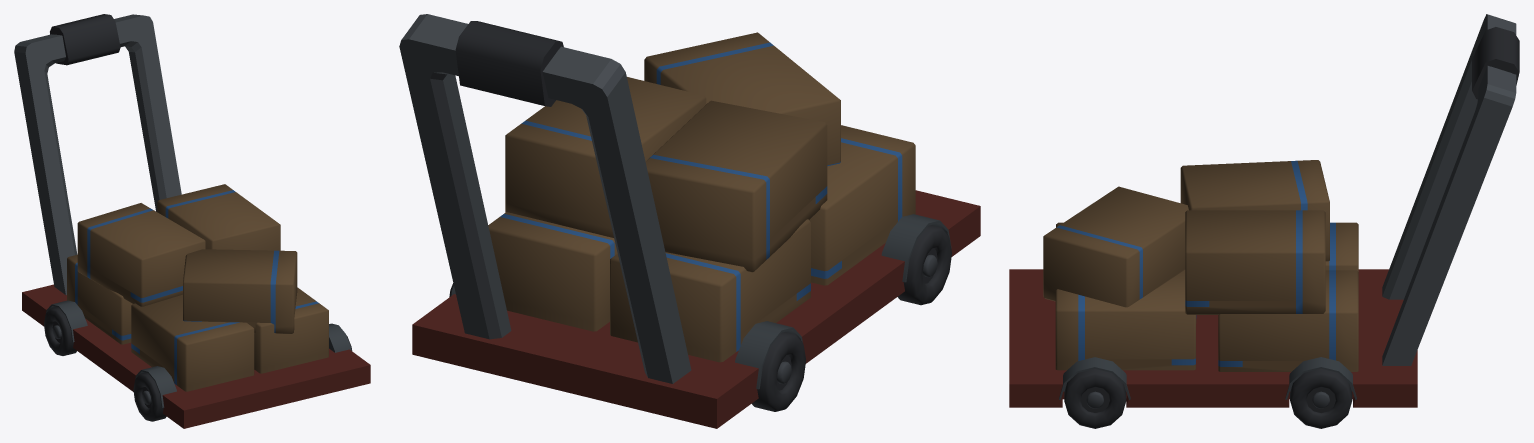
Rendered from HandTruckStacks_1.fbx.
The picture shows the model from 3 angles, left to right: view 1: azimuth 30°, elevation 25°; view 2: azimuth 150°, elevation 25°; view 3: azimuth 270°, elevation 25°; orthographic projection. The views are drawn at different scales.
Visible parts, largest first — view 1: HandTruckStacks_1; view 2: HandTruckStacks_1; view 3: HandTruckStacks_1.
Boxes of the visible parts, x1,y1,x2,y2 form: HandTruckStacks_1: (14, 14, 370, 428); HandTruckStacks_1: (399, 14, 980, 428); HandTruckStacks_1: (1009, 14, 1519, 428).
Size of the model in its own units: 107 by 133 by 189.
